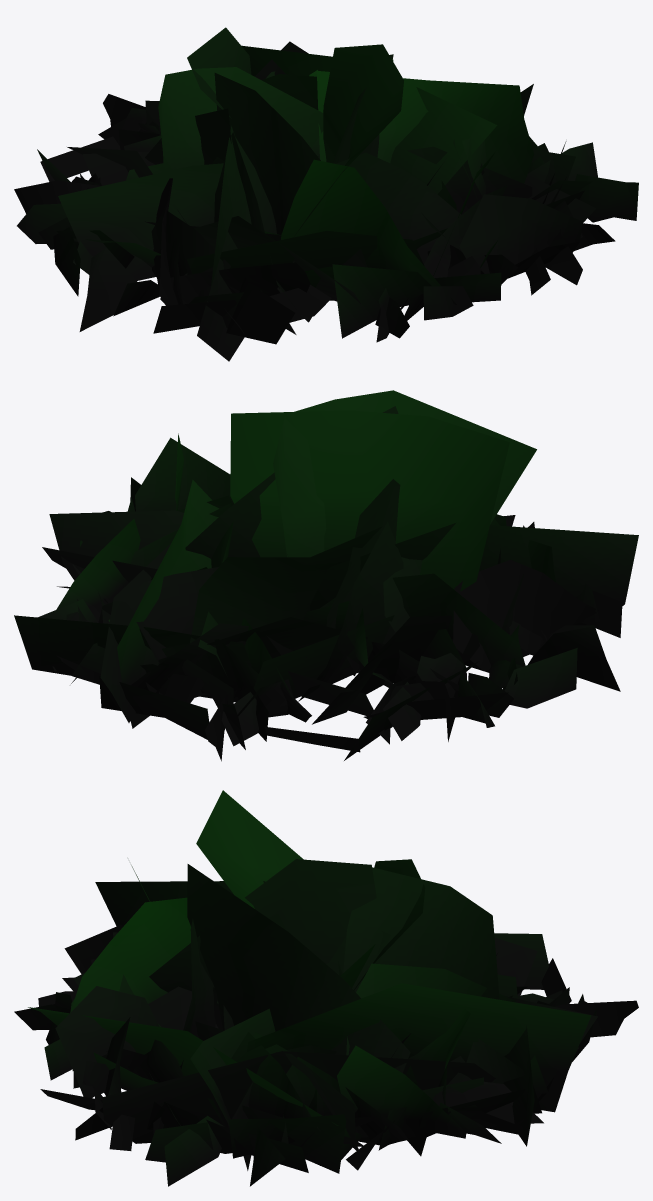
The model's file is GrassMedium_H.fbx.
3 views of the same model, one above another, from view 1: azimuth 30°, elevation 25°; view 2: azimuth 150°, elevation 25°; view 3: azimuth 270°, elevation 25° (orthographic). The views are drawn at different scales.
Visible parts, largest first — view 1: GrassMedium_H_LOD0; view 2: GrassMedium_H_LOD0; view 3: GrassMedium_H_LOD0.
Part boxes in pixels (box(x1,y1,x2,y2)): GrassMedium_H_LOD0: box(14, 27, 638, 361); GrassMedium_H_LOD0: box(14, 390, 638, 761); GrassMedium_H_LOD0: box(14, 790, 638, 1186).
Size of what is drawn, in the model's own units: 2.25 by 0.8864 by 2.23.
